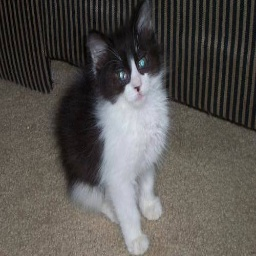cat: (51, 1, 172, 252)
